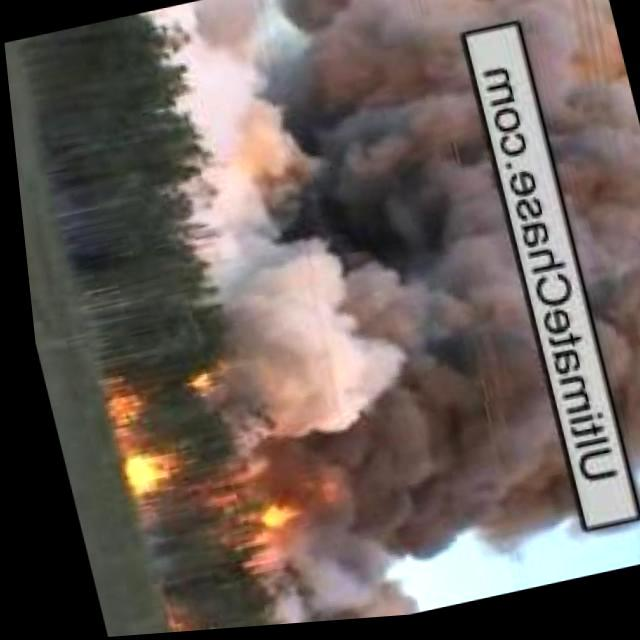fire: (93, 349, 235, 446), (222, 491, 304, 537), (112, 448, 184, 492), (155, 618, 193, 634)
